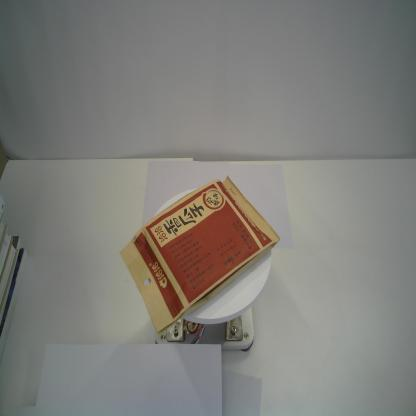Dried Food: (118, 174, 282, 337)
